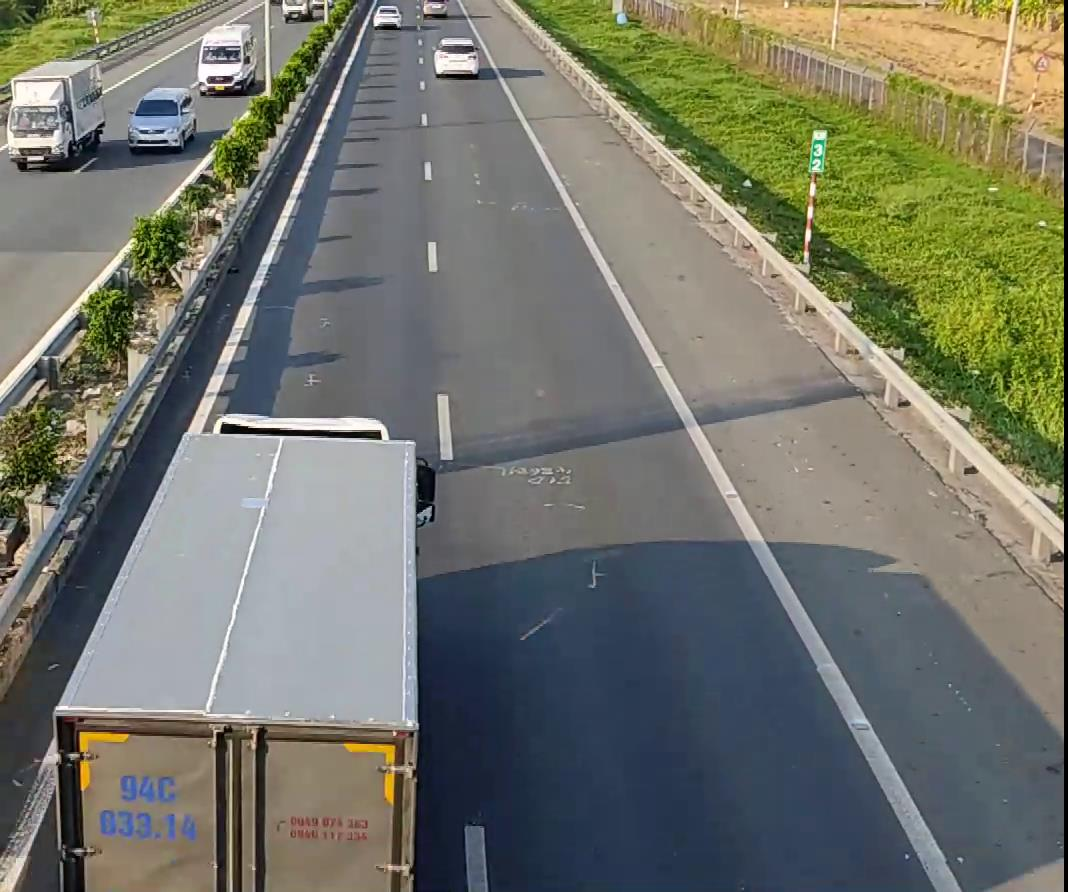car: (126, 86, 197, 152), (195, 21, 255, 94)
truck: (48, 412, 431, 892), (3, 58, 106, 169)
